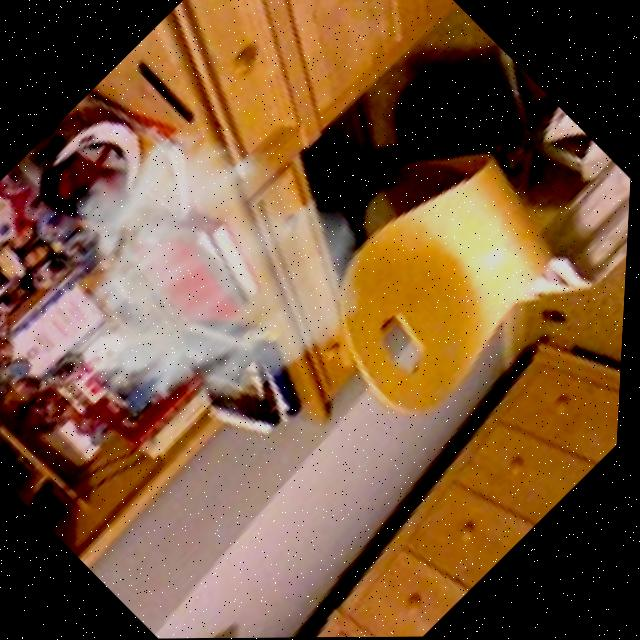Smoke: (0, 63, 412, 495)
